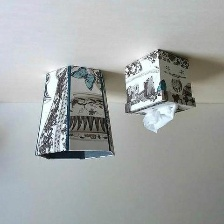plastic_box: (28, 61, 119, 165), (119, 45, 200, 120)
tissue: (136, 99, 182, 137)
